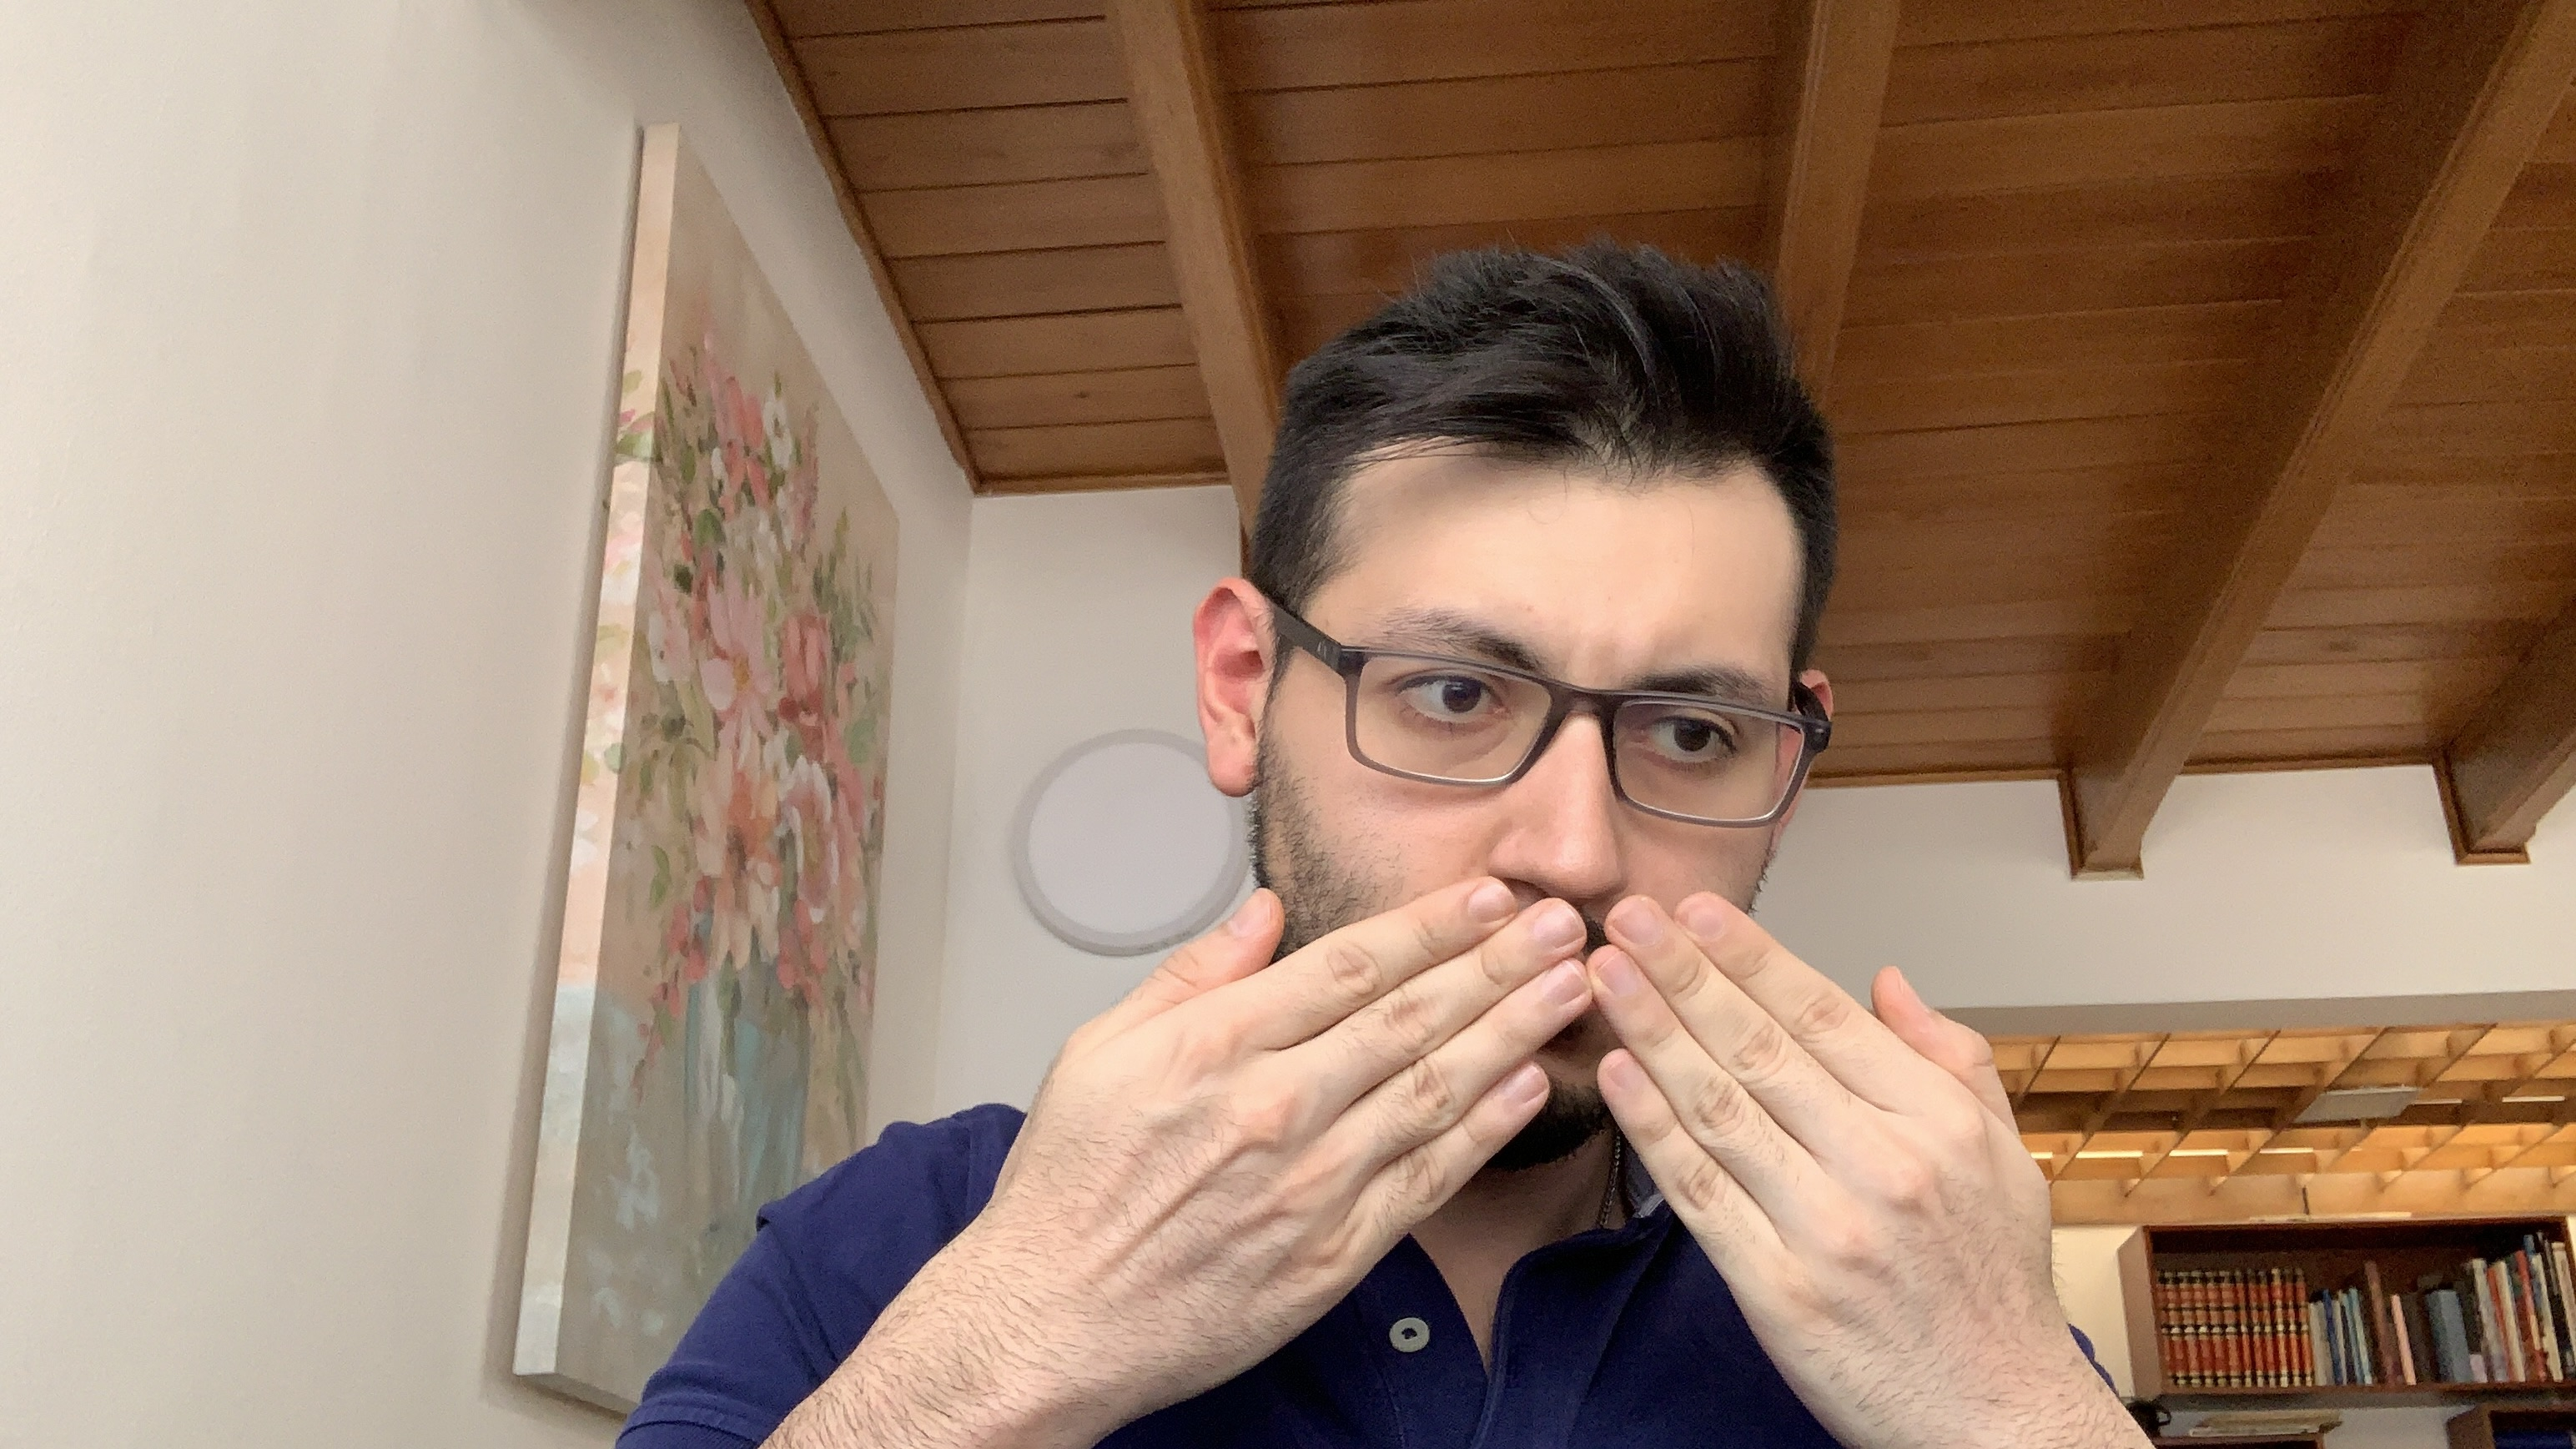Thank You: (973, 869, 2102, 1391)
